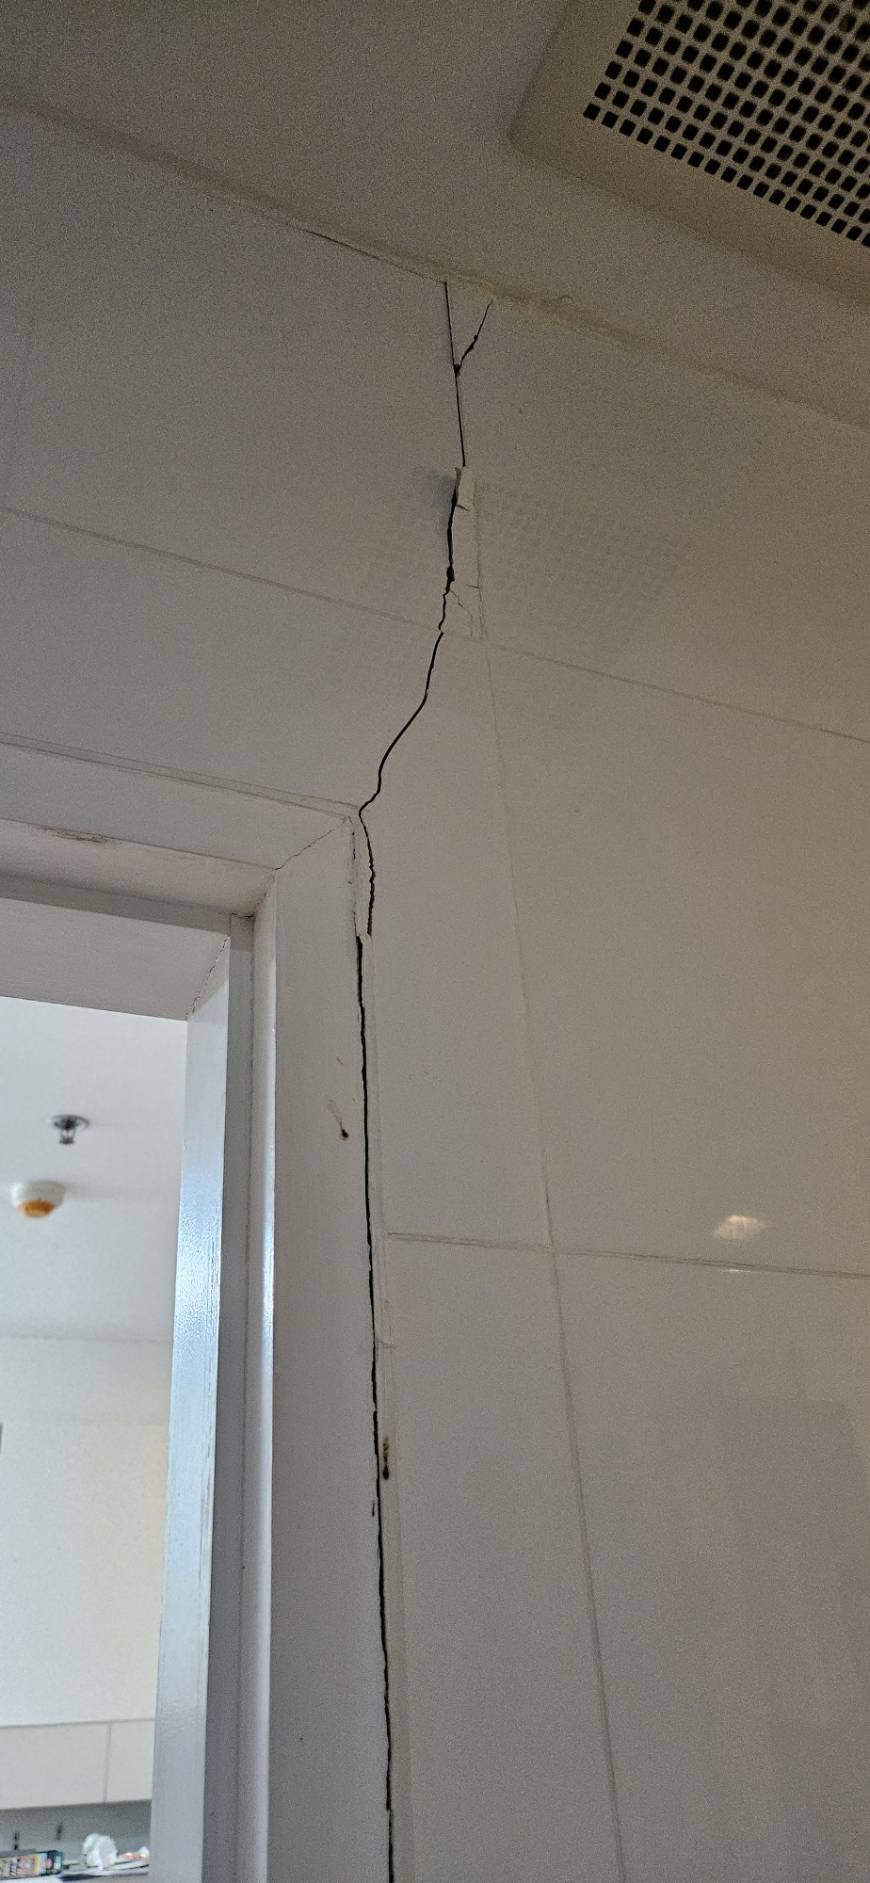Low: (312, 249, 553, 1883)
